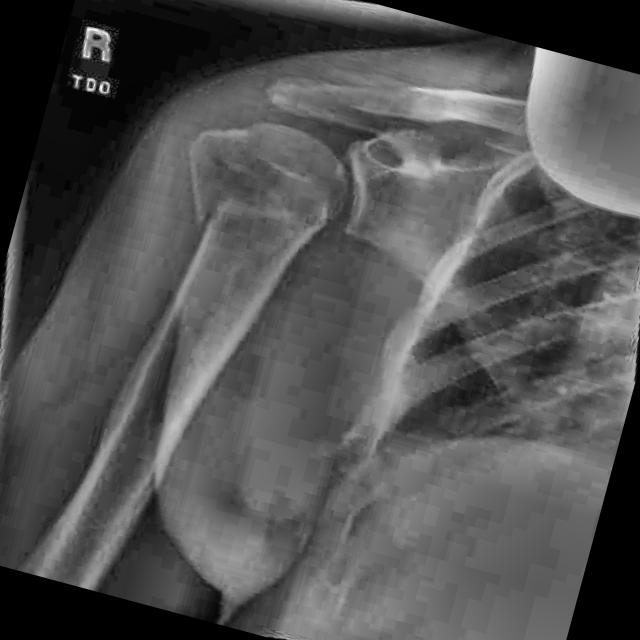shoulder fracture: (170, 184, 241, 284)
